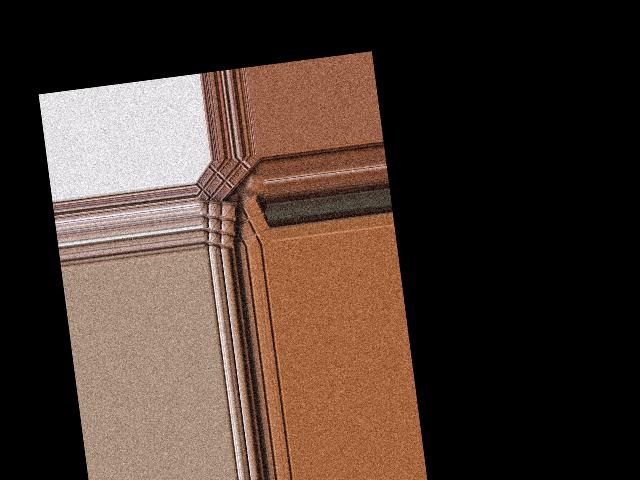chocolate: (222, 195, 268, 249)
